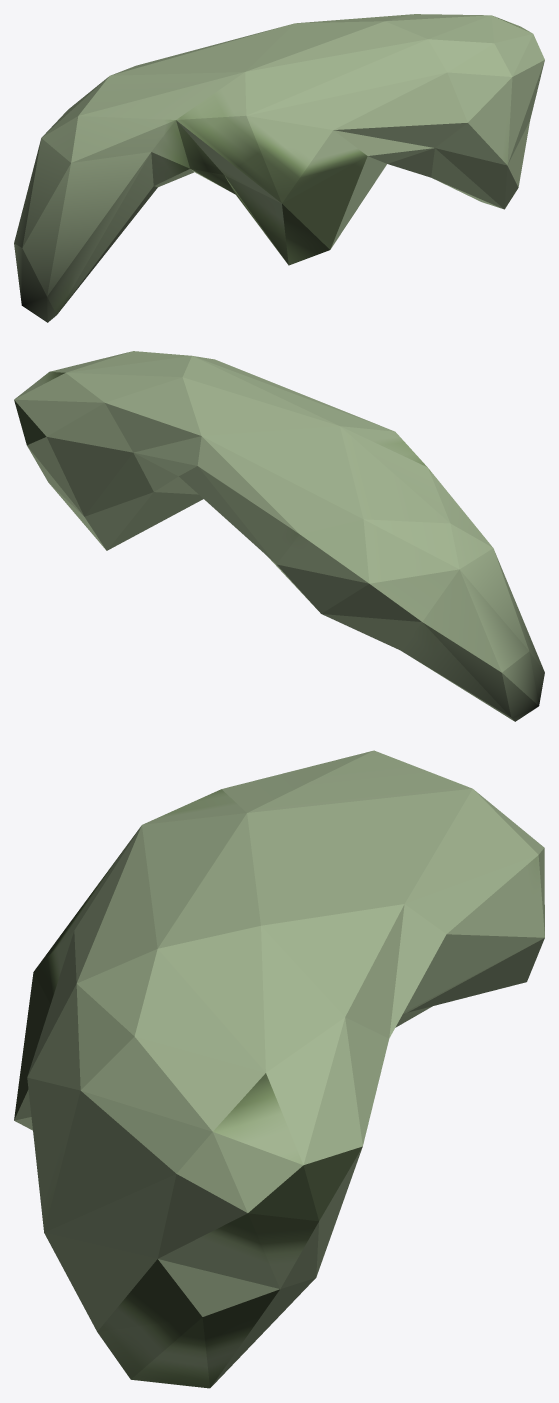
The model's file is EA_Swamp_tree6.009.glb.
The picture shows the model from 3 angles, top to bottom: view 1: azimuth 30°, elevation 25°; view 2: azimuth 150°, elevation 25°; view 3: azimuth 270°, elevation 25°; orthographic projection. The views are drawn at different scales.
Parts seen in each view (by area): view 1: EA_Swamp_tree6.009; view 2: EA_Swamp_tree6.009; view 3: EA_Swamp_tree6.009.
Boxes of the visible parts, x1=… form: EA_Swamp_tree6.009: x1=14, y1=14, x2=544, y2=322; EA_Swamp_tree6.009: x1=14, y1=351, x2=544, y2=721; EA_Swamp_tree6.009: x1=14, y1=750, x2=544, y2=1388.
Size of the model in its own units: 3.91 by 1.74 by 1.8.
1 material, 1 textured.
